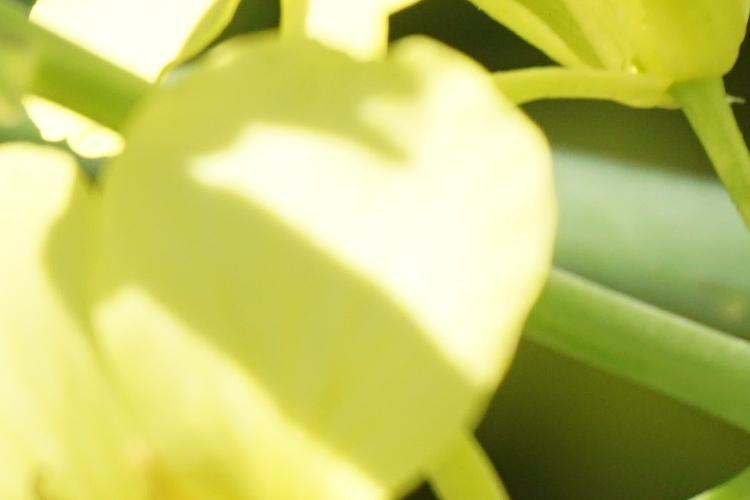yellow: (36, 62, 543, 481)
